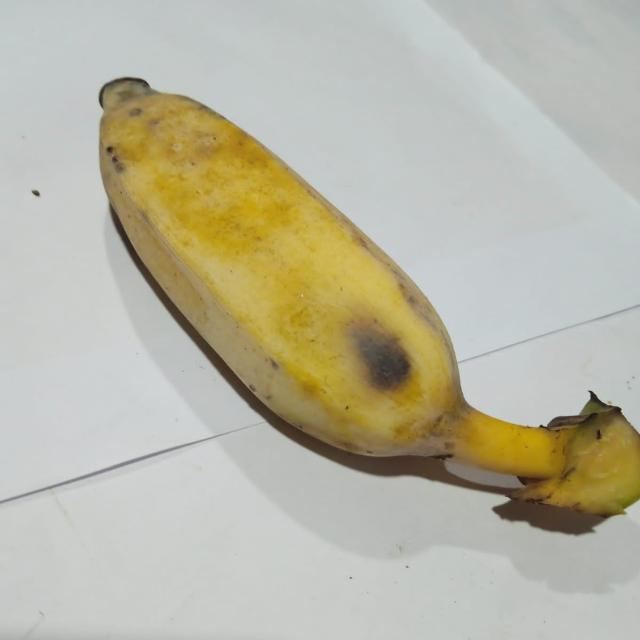banana: (100, 79, 639, 515)
